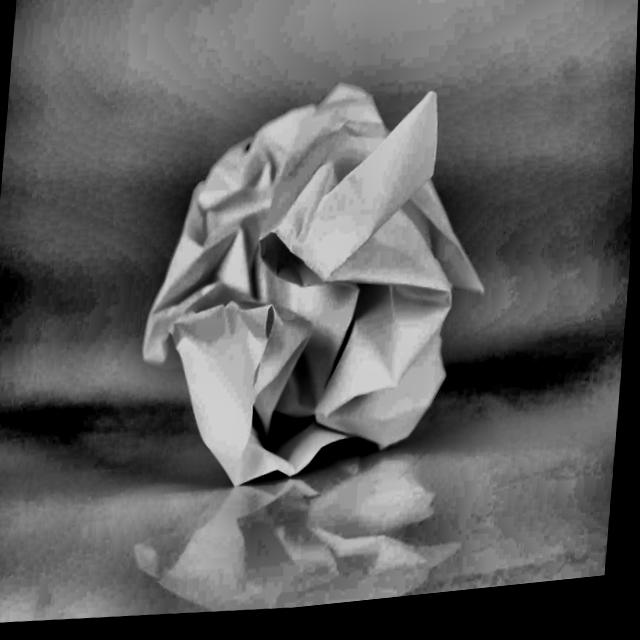Paper: (119, 46, 515, 536)
